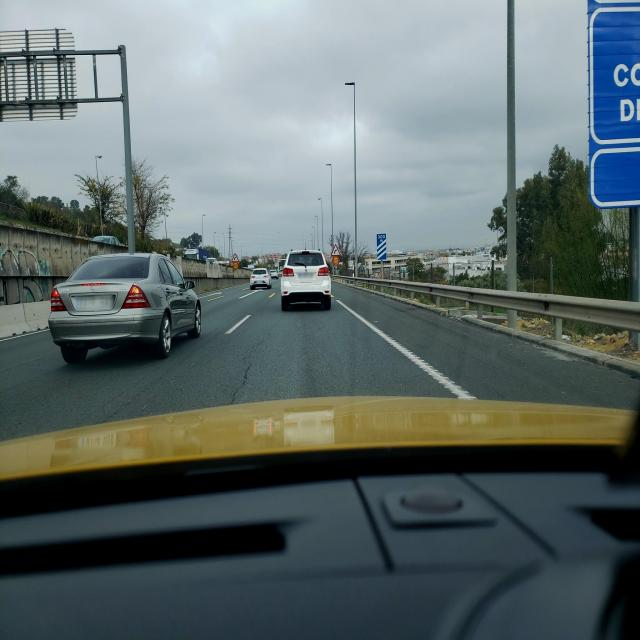car: (48, 251, 202, 364), (281, 249, 332, 311), (249, 267, 272, 290), (269, 268, 279, 280)
